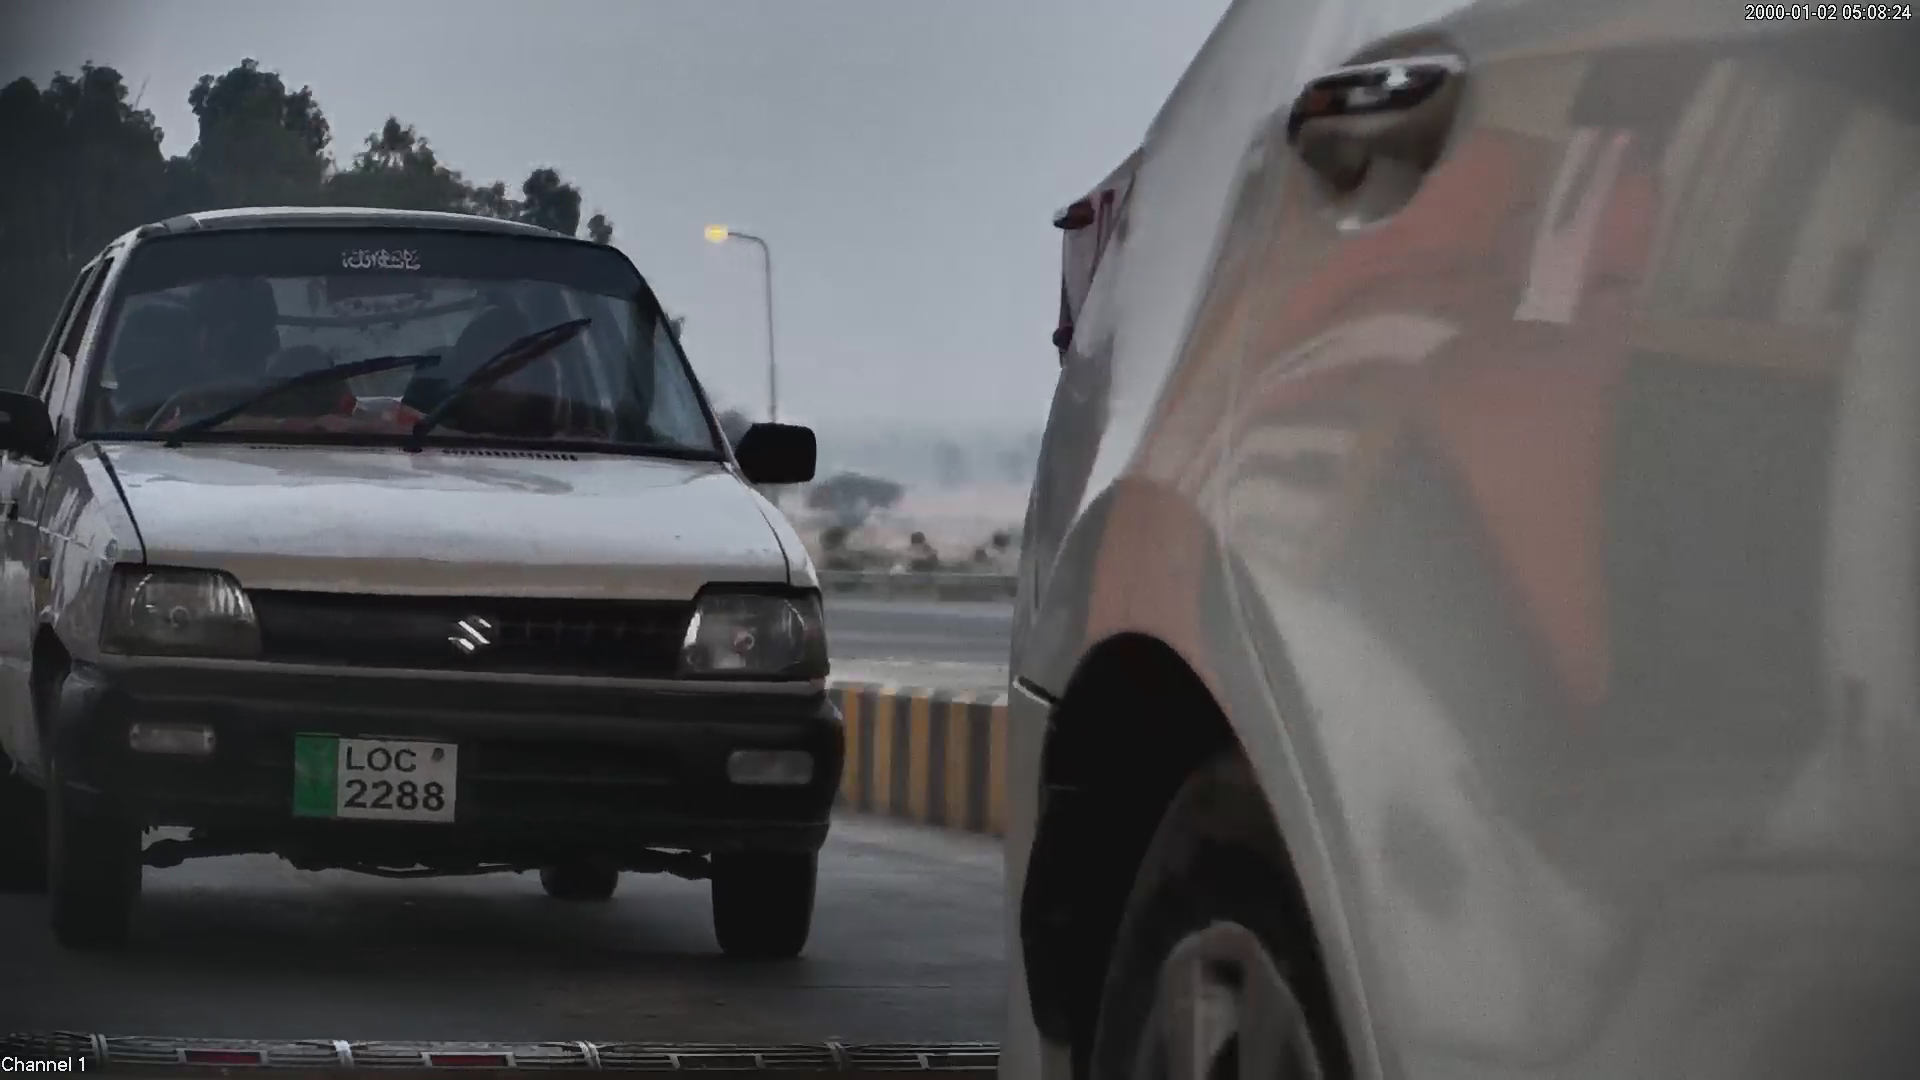Number_Plate: (284, 721, 468, 835)
